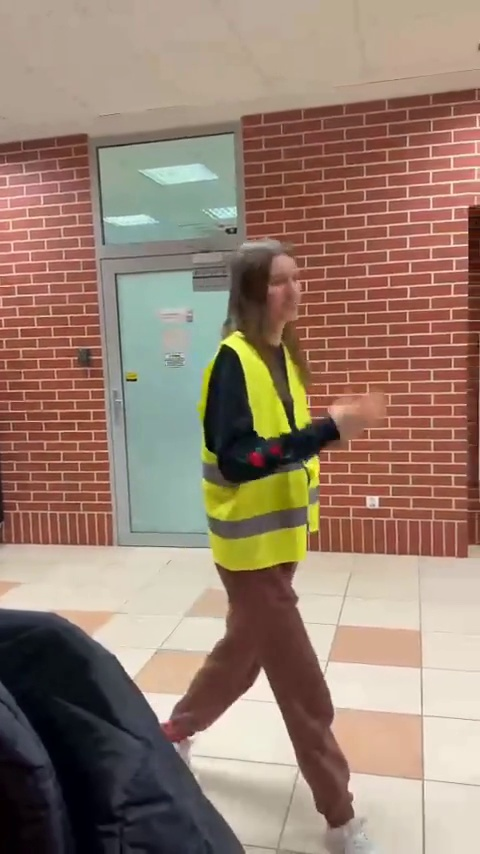vest: (156, 235, 366, 792)
